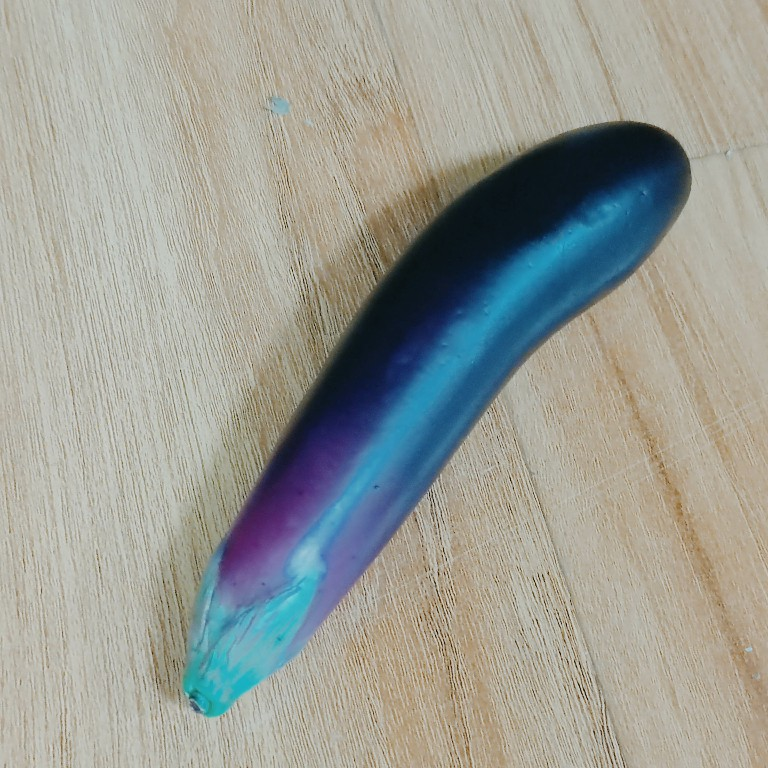fruit_eggplant: (178, 110, 703, 723)
